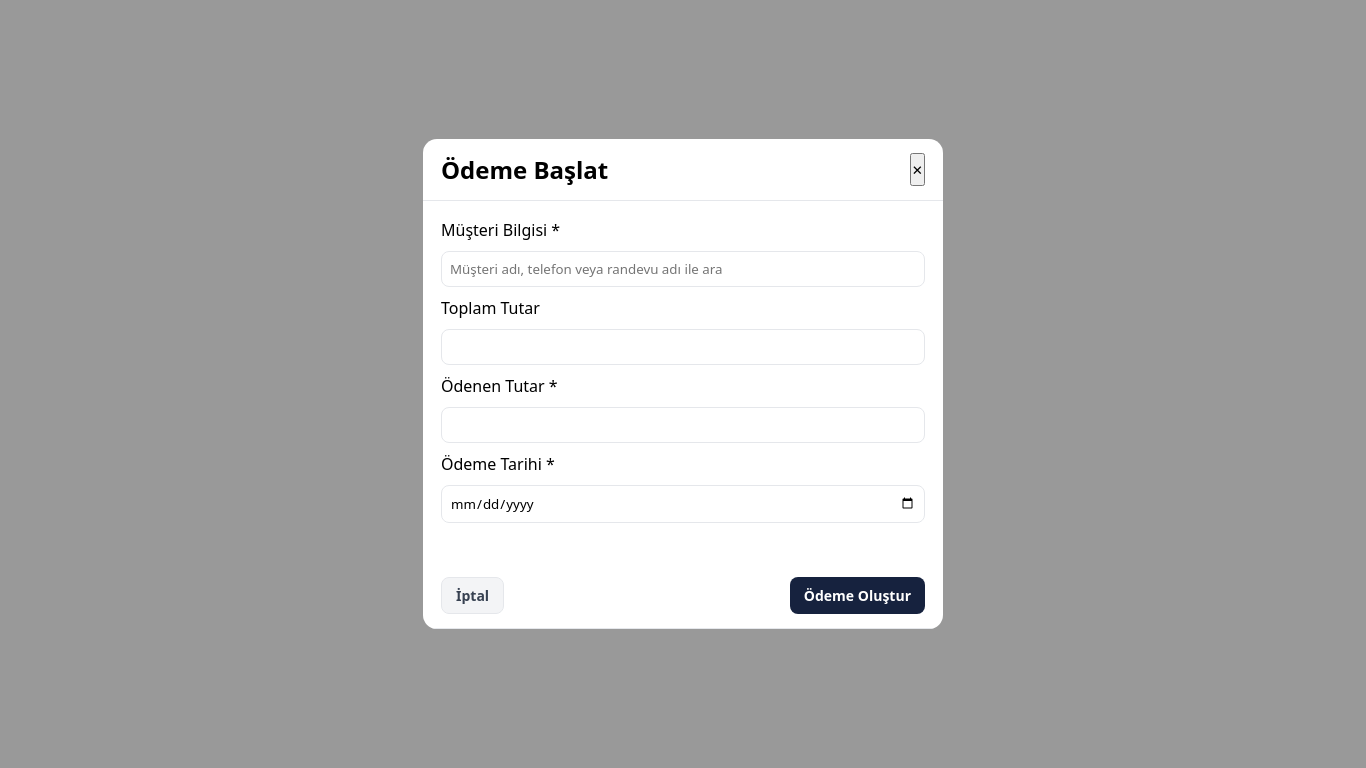
it: AddPaymentModal › free search mode › warns when fewer than 2 characters are typed
This screenshot has width=1366, height=768.
Type "a" into the field with placeholder "Müşteri adı, telefon veya randevu adı ile ara" at (683,269), box [441,251,925,287]
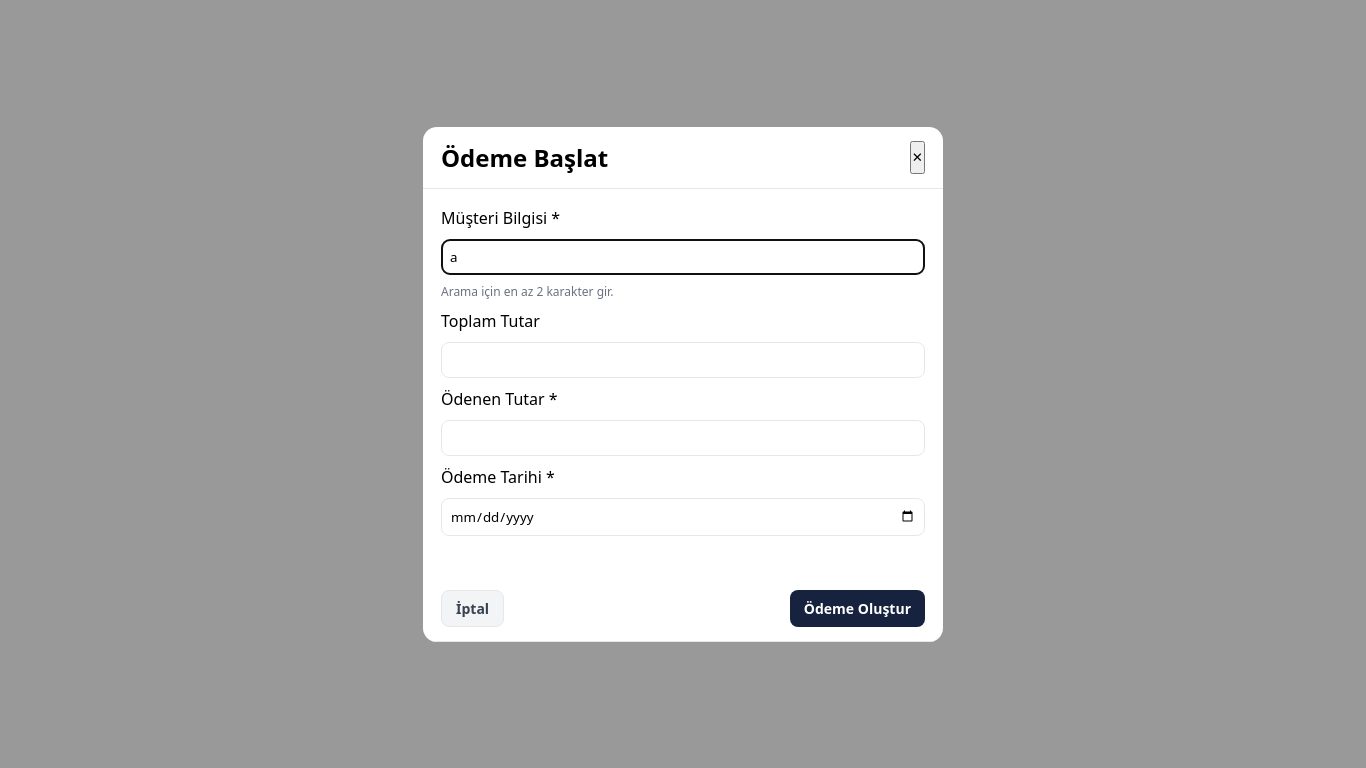
expect the text "Arama için en az 2 karakter gir." is shown: met, box [441,282,613,300]
